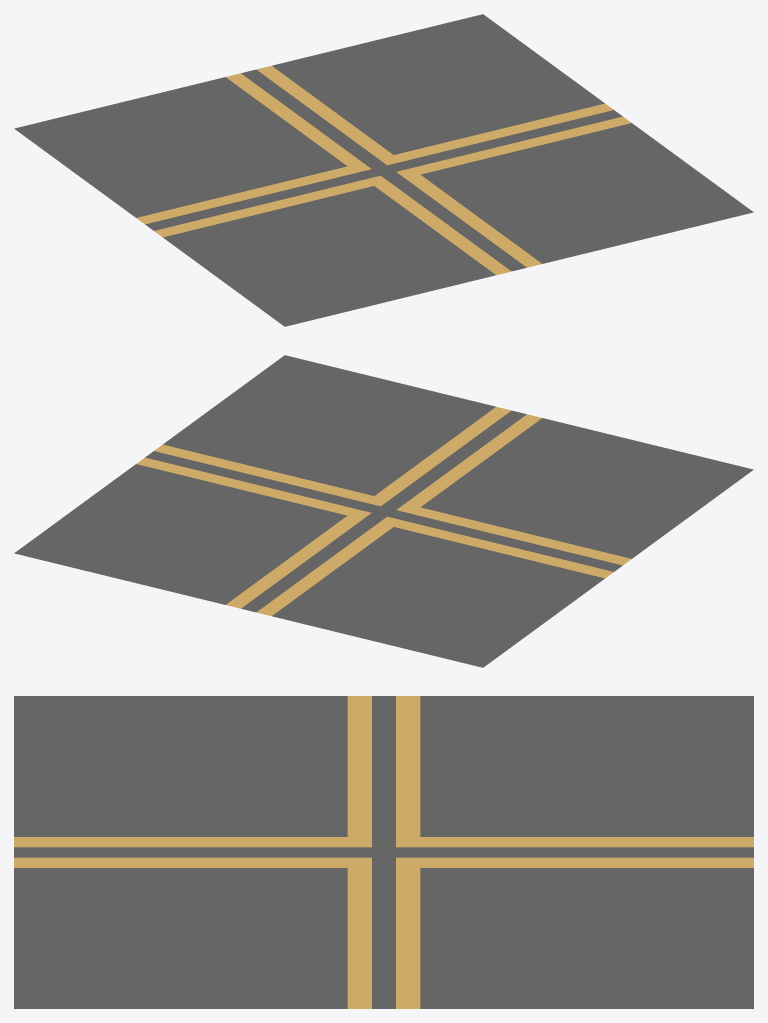
The model's file is Calle_Cruz.fbx.
3 views of the same model, one above another, from view 1: azimuth 30°, elevation 25°; view 2: azimuth 150°, elevation 25°; view 3: azimuth 270°, elevation 25° (orthographic). The views are drawn at different scales.
Visible parts, largest first — view 1: Calle_Cruz; view 2: Calle_Cruz; view 3: Calle_Cruz.
Part boxes in pixels (box(x1,y1,x2,y2)): Calle_Cruz: box(14, 14, 753, 326); Calle_Cruz: box(14, 355, 753, 667); Calle_Cruz: box(14, 696, 753, 1008).
Bounding box in the file's own units: 300 × 4.89e-05 × 300.
